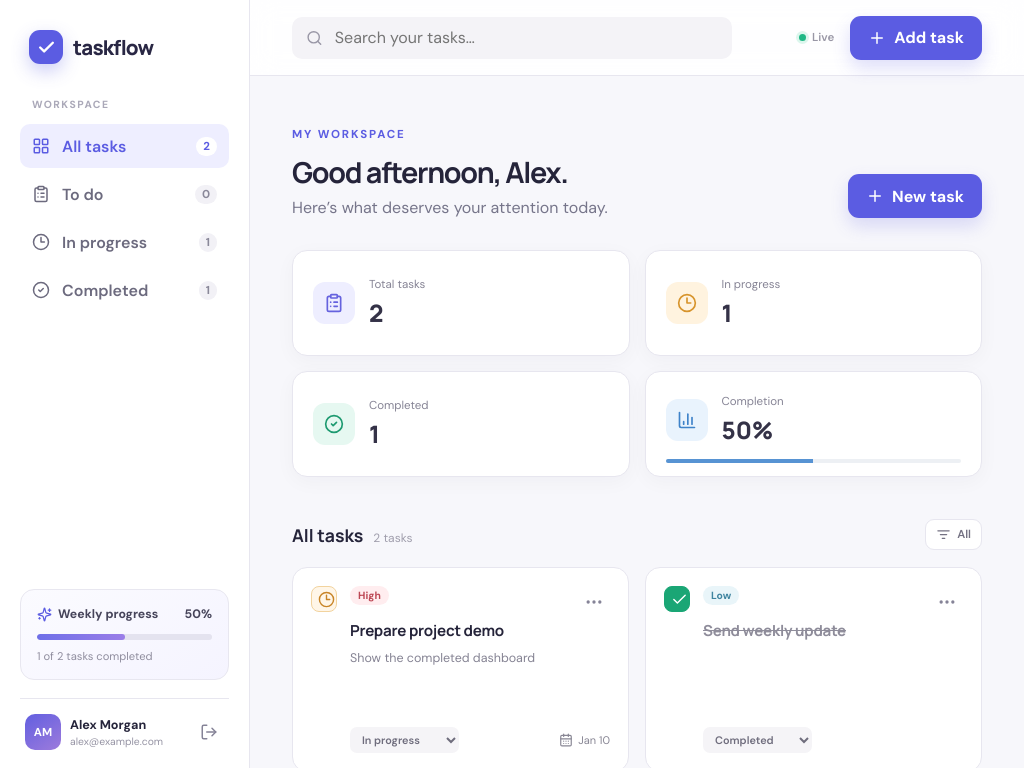
Test: Dashboard › searches task titles and opens the create dialog
Type "demo" into the field named "Search tasks" at (525, 38), box x1=333 y1=26 x2=718 y2=49
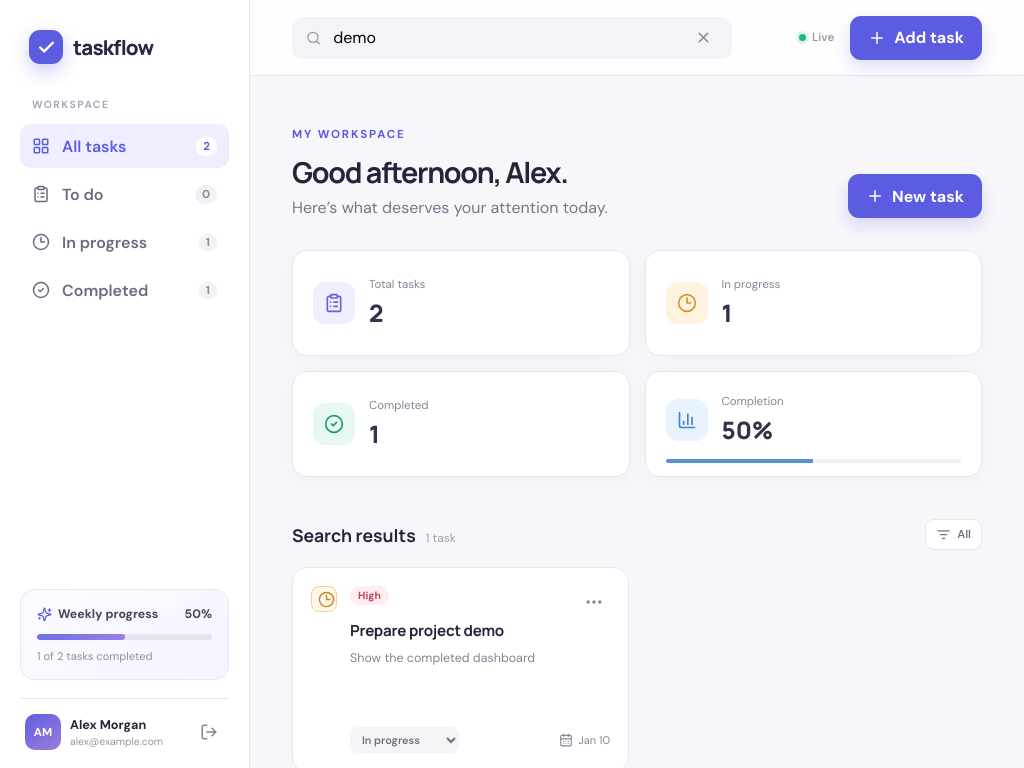
Expected: the heading "Prepare project demo" is shown, x1=350 y1=620 x2=504 y2=641
Expected: the heading "Send weekly update" is gone
Click the button "New task" at (915, 196), box x1=848 y1=174 x2=982 y2=218
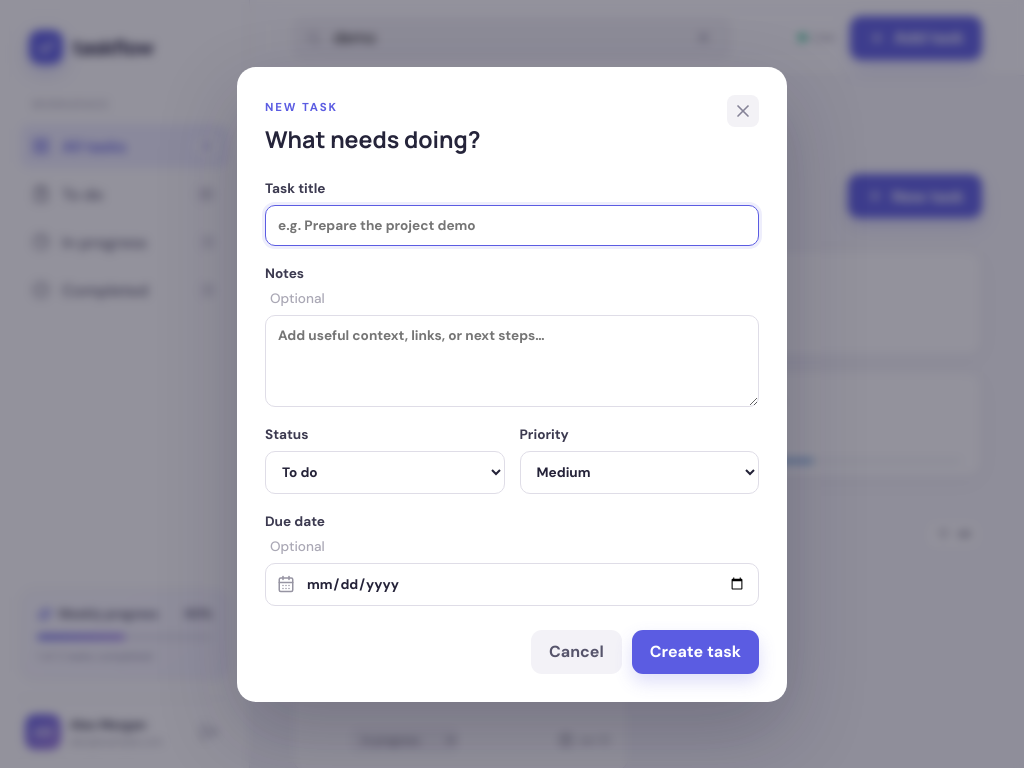
Expected: the dialog is shown, x1=237 y1=66 x2=787 y2=702
